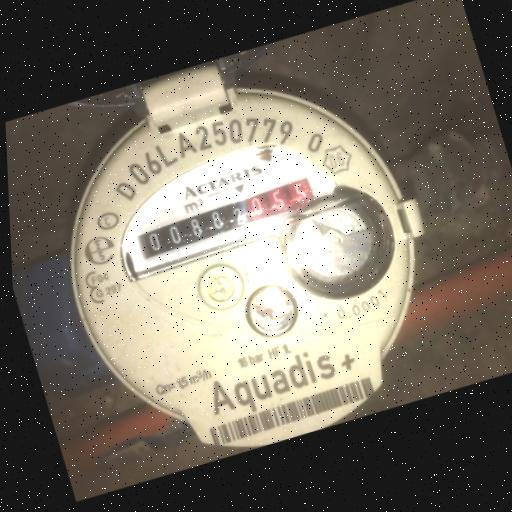0: (138, 226, 170, 259), (161, 219, 189, 250), (245, 193, 270, 223)
2: (223, 199, 250, 229)
5: (285, 176, 317, 212), (266, 186, 291, 215)
8: (181, 213, 210, 244), (204, 206, 230, 237)
border_water_meter_number: (126, 161, 326, 267)
